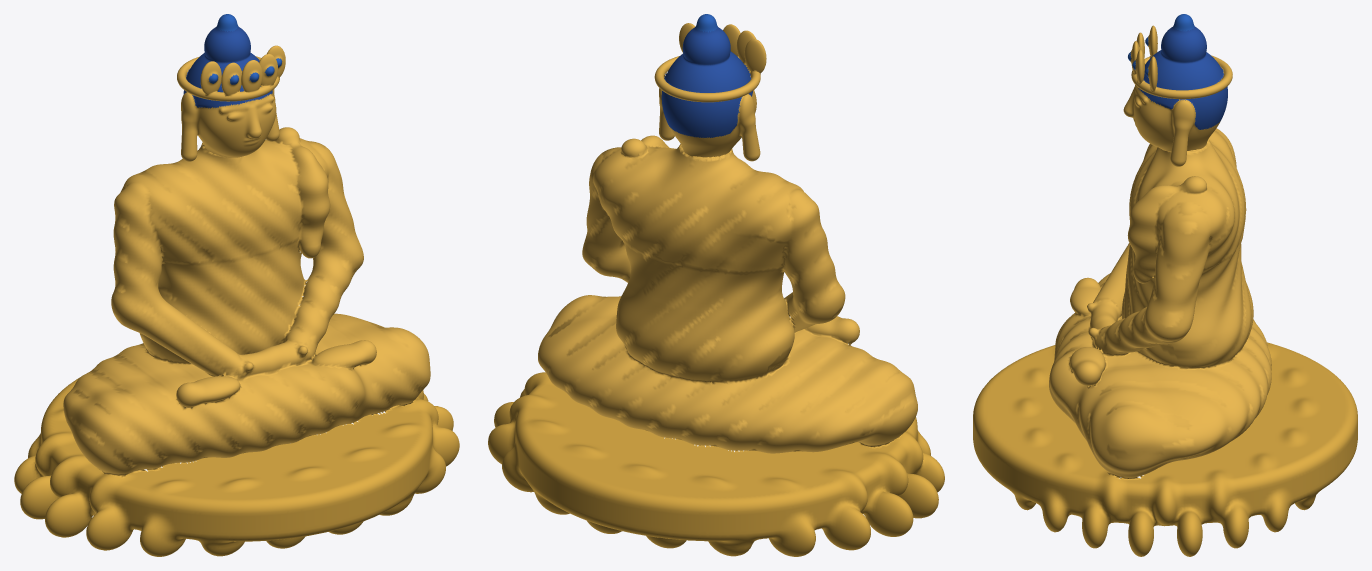
Rendered from tibetan-amitayus.glb.
3 views of the same model, side by side, from view 1: azimuth 30°, elevation 25°; view 2: azimuth 150°, elevation 25°; view 3: azimuth 270°, elevation 25° (orthographic). The views are drawn at different scales.
Parts seen in each view (by area): view 1: statue-tibetan-amitayus; view 2: statue-tibetan-amitayus; view 3: statue-tibetan-amitayus.
Part boxes in pixels (bbox=[...]): statue-tibetan-amitayus: bbox=[14, 14, 459, 556]; statue-tibetan-amitayus: bbox=[488, 14, 944, 556]; statue-tibetan-amitayus: bbox=[973, 14, 1357, 556].
Size of the model in its own units: 1.25 by 1.35 by 1.04.
